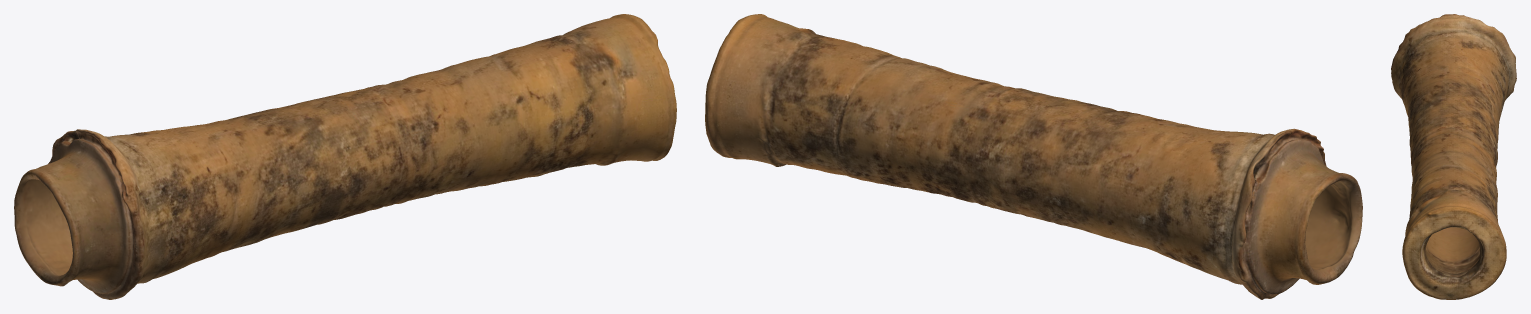
File: cijev.glb
3 renders of one model, left to right at view 1: azimuth 30°, elevation 25°; view 2: azimuth 150°, elevation 25°; view 3: azimuth 270°, elevation 25°, orthographic. The views are drawn at different scales.
Size of the model in its own units: 1.9 by 0.4761 by 0.4961.
Materials: 1 (1 with a texture image).
